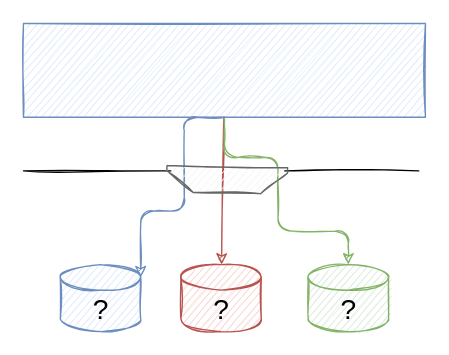
This 449x355 diagram has some shape labels left out. Here are the shapes that lost their labels. From the top down, the box of each, then its label:
(22, 22, 425, 117): Event Streams - Broker
(165, 164, 288, 194): I/O Throughput
